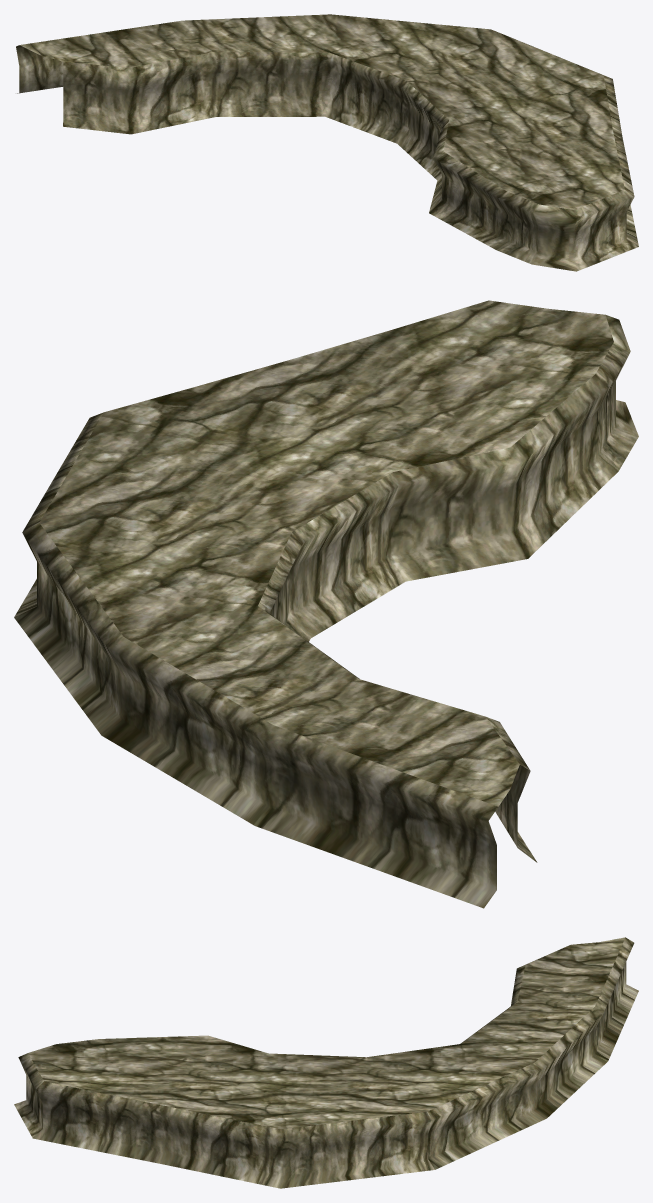
File: CB_NEWPLAYSURFACE_CB_PLAYSURFACE114.fbx
3 renders of one model, top to bottom at view 1: azimuth 30°, elevation 25°; view 2: azimuth 150°, elevation 25°; view 3: azimuth 270°, elevation 25°, orthographic. The views are drawn at different scales.
Parts seen in each view (by area): view 1: CB_NEWPLAYSURFACE_CB_PLAYSURFACE114; view 2: CB_NEWPLAYSURFACE_CB_PLAYSURFACE114; view 3: CB_NEWPLAYSURFACE_CB_PLAYSURFACE114.
Part boxes in pixels (left/top/right/bottom): CB_NEWPLAYSURFACE_CB_PLAYSURFACE114: left=16, top=14, right=638, bottom=271; CB_NEWPLAYSURFACE_CB_PLAYSURFACE114: left=14, top=300, right=638, bottom=908; CB_NEWPLAYSURFACE_CB_PLAYSURFACE114: left=14, top=937, right=638, bottom=1188.
Bounding box in the file's own units: 217920 × 30009 × 289905.
2 materials, 2 textured.
